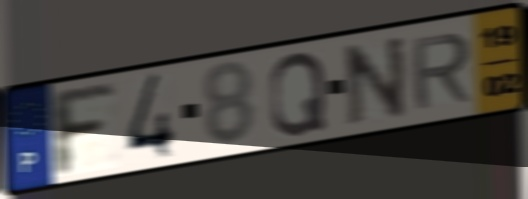4: (121, 70, 180, 163)
8: (199, 59, 262, 151)
F: (45, 81, 120, 180)
N: (340, 32, 409, 129)
Q: (267, 49, 329, 140)
R: (408, 29, 474, 113)
